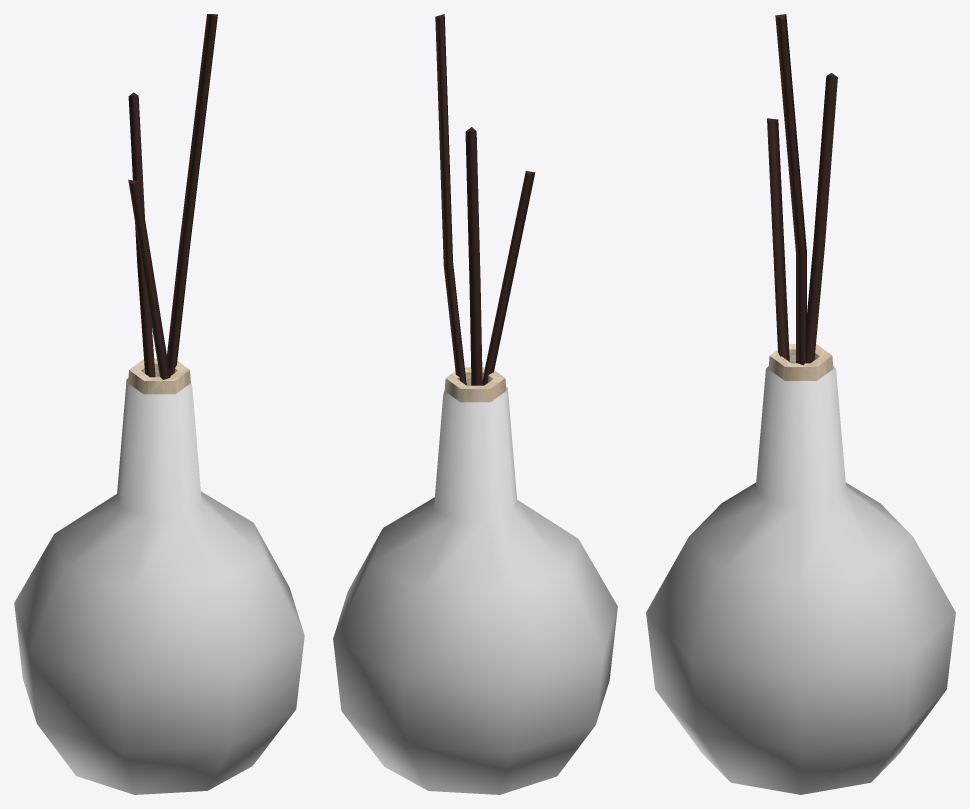
The model's file is prop_026.fbx.
The picture shows the model from 3 angles, left to right: view 1: azimuth 30°, elevation 25°; view 2: azimuth 150°, elevation 25°; view 3: azimuth 270°, elevation 25°; orthographic projection. The views are drawn at different scales.
Visible parts, largest first — view 1: prop_026; view 2: prop_026; view 3: prop_026.
Boxes of the visible parts, x1,y1,x2,y2 form: prop_026: (14, 14, 304, 794); prop_026: (333, 14, 617, 794); prop_026: (646, 14, 955, 794).
Size of the model in its own units: 22.05 by 22.05 by 59.69.
